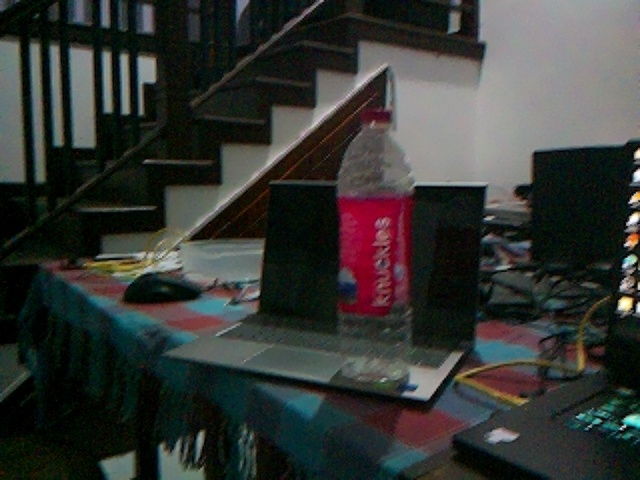bottle: (332, 106, 419, 388)
